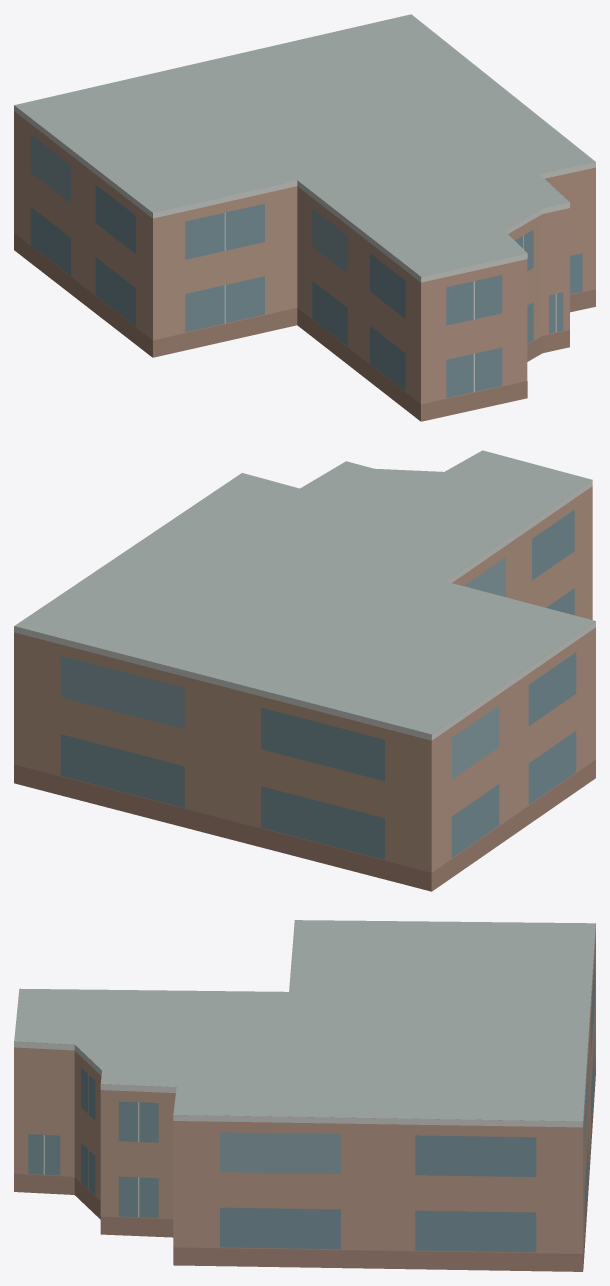
The model's file is survey-upis-32941249.glb.
The picture shows the model from 3 angles, top to bottom: view 1: azimuth 30°, elevation 25°; view 2: azimuth 150°, elevation 25°; view 3: azimuth 270°, elevation 25°; orthographic projection. The views are drawn at different scales.
Parts seen in each view (by area): view 1: survey-upis-32941249.tmp; view 2: survey-upis-32941249.tmp; view 3: survey-upis-32941249.tmp.
Part boxes in pixels (x1=…): survey-upis-32941249.tmp: x1=14, y1=14, x2=595, y2=421; survey-upis-32941249.tmp: x1=14, y1=450, x2=595, y2=891; survey-upis-32941249.tmp: x1=14, y1=920, x2=595, y2=1271.
Size of the model in its own units: 17.52 by 6.1 by 21.38.
